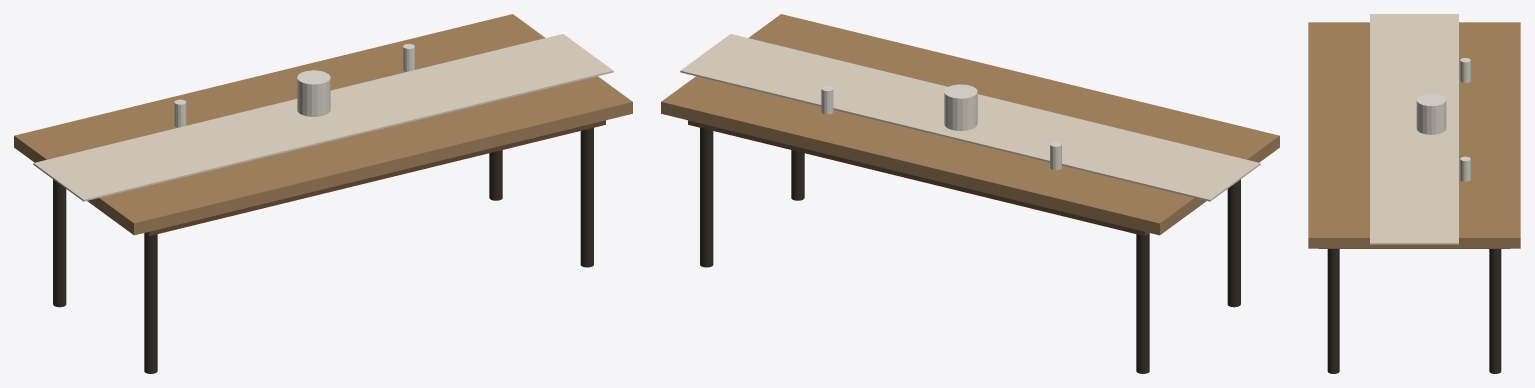
3 renders of one model, left to right at view 1: azimuth 30°, elevation 25°; view 2: azimuth 150°, elevation 25°; view 3: azimuth 270°, elevation 25°, orthographic. The views are drawn at different scales.
Parts seen in each view (by area): view 1: dining-table; view 2: dining-table; view 3: dining-table.
Part boxes in pixels (x1=…): dining-table: x1=14, y1=14, x2=632, y2=373; dining-table: x1=661, y1=14, x2=1279, y2=373; dining-table: x1=1308, y1=14, x2=1520, y2=373.
Size of the model in its own units: 2.55 by 0.92 by 1.
